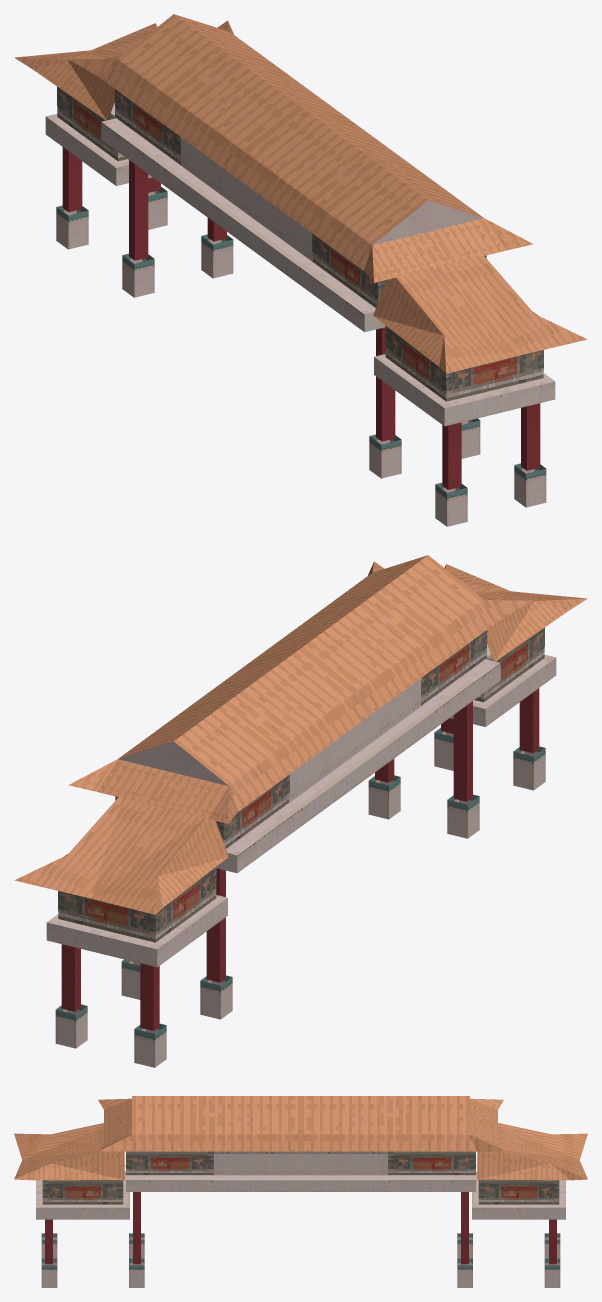
Rendered from lodatwnmll12_lvs.obj.
3 renders of one model, top to bottom at view 1: azimuth 30°, elevation 25°; view 2: azimuth 150°, elevation 25°; view 3: azimuth 270°, elevation 25°, orthographic. The views are drawn at different scales.
Parts seen in each view (by area): view 1: lodatwnmll12_lvs; view 2: lodatwnmll12_lvs; view 3: lodatwnmll12_lvs.
Part boxes in pixels (bbox=[...]): lodatwnmll12_lvs: bbox=[14, 14, 587, 526]; lodatwnmll12_lvs: bbox=[14, 555, 587, 1067]; lodatwnmll12_lvs: bbox=[14, 1096, 587, 1287].
Bounding box in the file's own units: 7.41 × 11.74 × 34.77.
2 materials, 2 textured.
